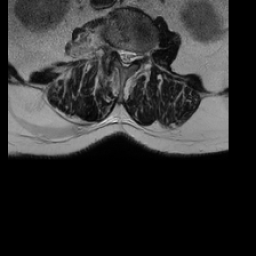CCS_normal: (122, 43, 128, 73)
LFS_normal: (135, 46, 142, 67)
LLS_normal: (128, 44, 134, 69)
RFS_severe_stenosis: (111, 40, 117, 60)
RLS_stenosis: (117, 43, 123, 67)
